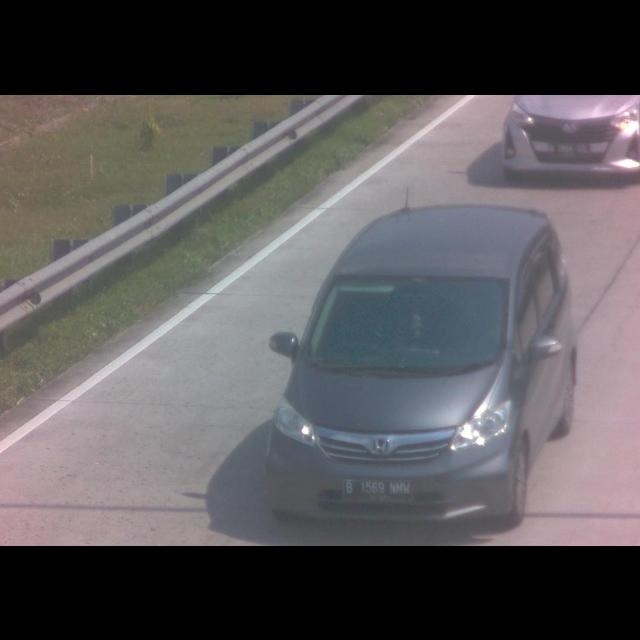plate: (341, 478, 414, 504)
